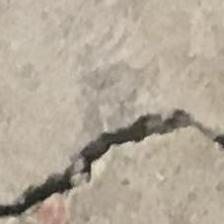Crack: (0, 95, 224, 221)
